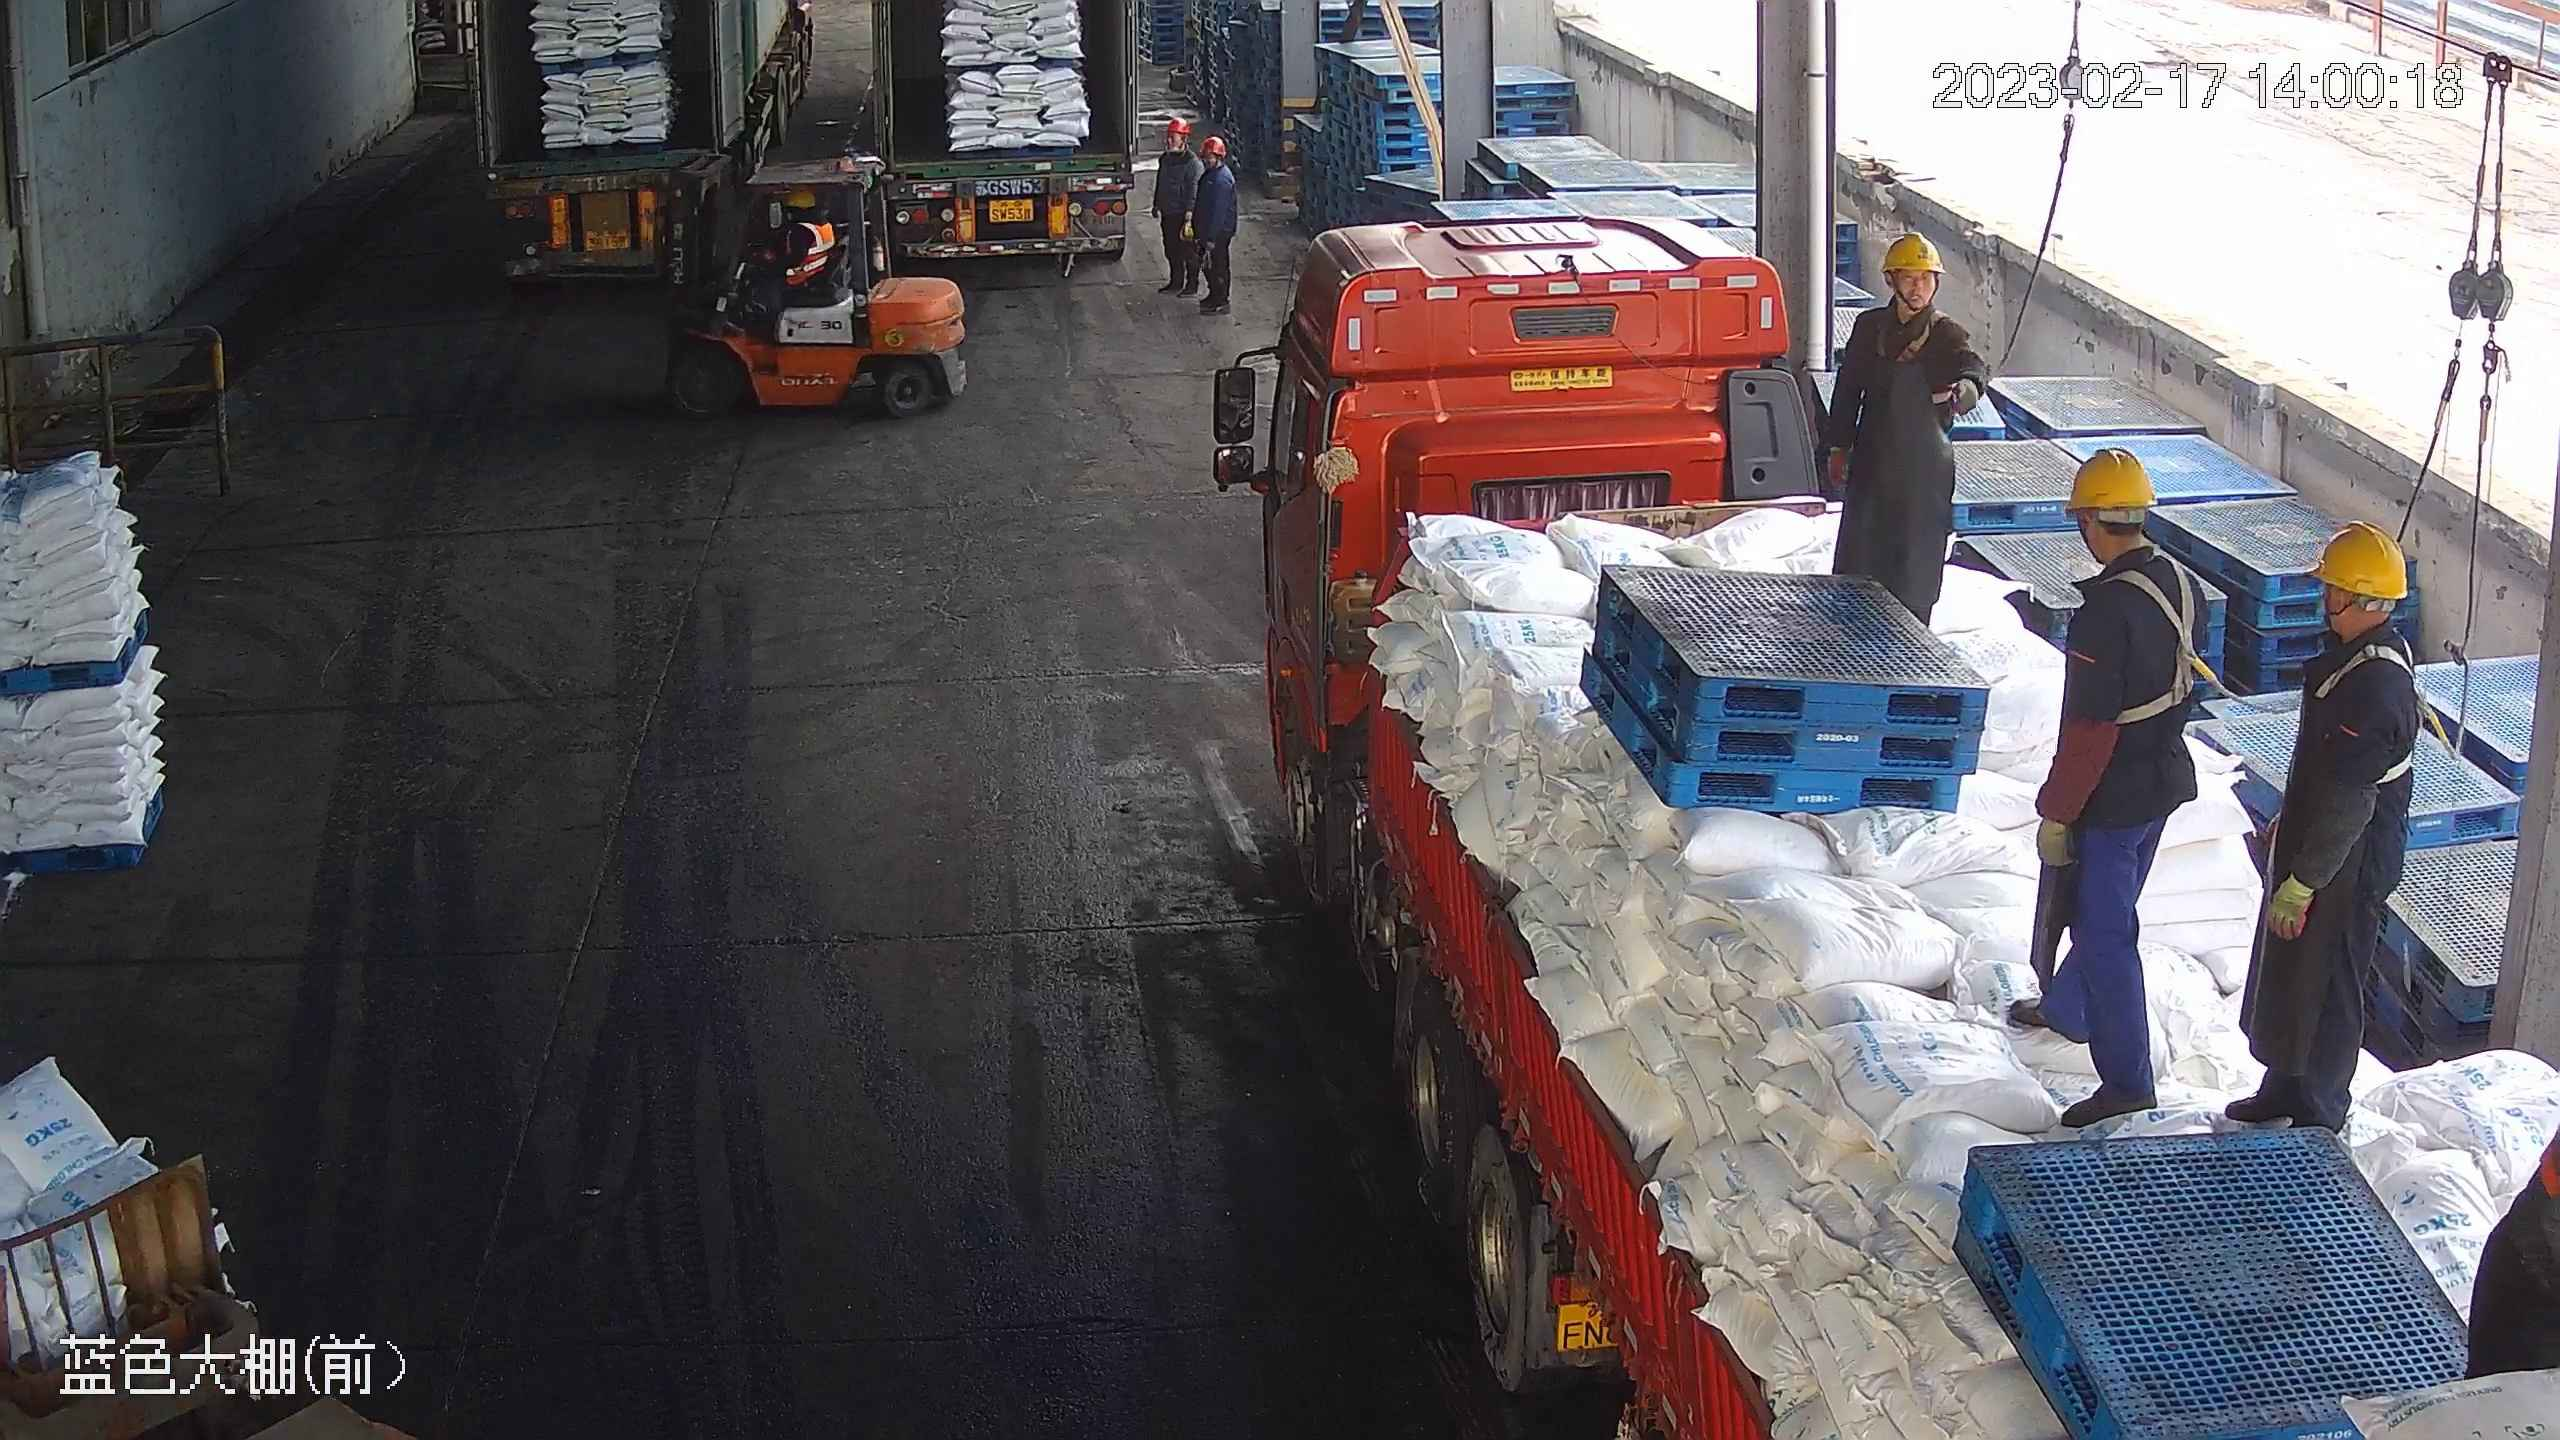belt: (2085, 551, 2218, 726), (2315, 634, 2434, 778), (1878, 305, 1957, 366)
head: (2051, 444, 2214, 654), (2273, 518, 2429, 722), (1840, 228, 1974, 371), (782, 187, 834, 246), (1192, 135, 1236, 191), (1154, 117, 1196, 175)
helmet: (2306, 519, 2409, 598), (2061, 445, 2157, 512), (1881, 229, 1943, 275), (788, 188, 819, 210), (1198, 134, 1224, 154), (1164, 114, 1191, 136)
people: (2008, 445, 2210, 1129), (2228, 518, 2425, 1140), (1823, 226, 1986, 632), (739, 187, 837, 323), (1187, 134, 1241, 321), (1148, 117, 1196, 298)
truck: (1215, 199, 2558, 1440), (457, 1, 759, 280), (844, 4, 1140, 280)
